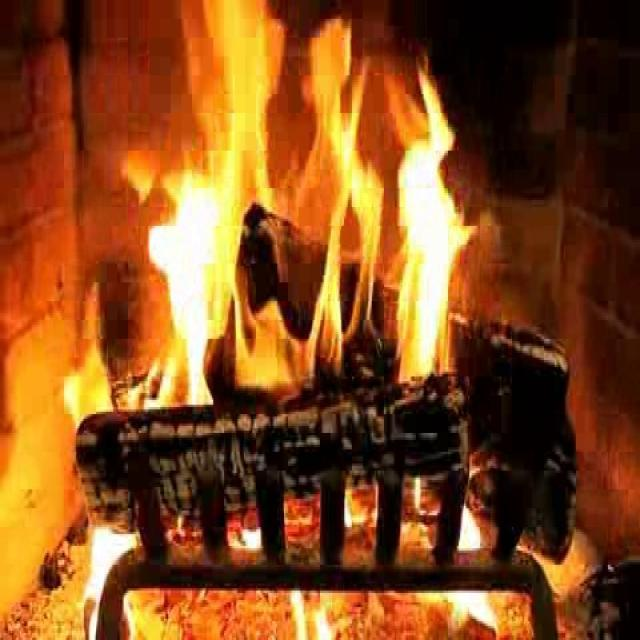Fire: (132, 9, 472, 417)
